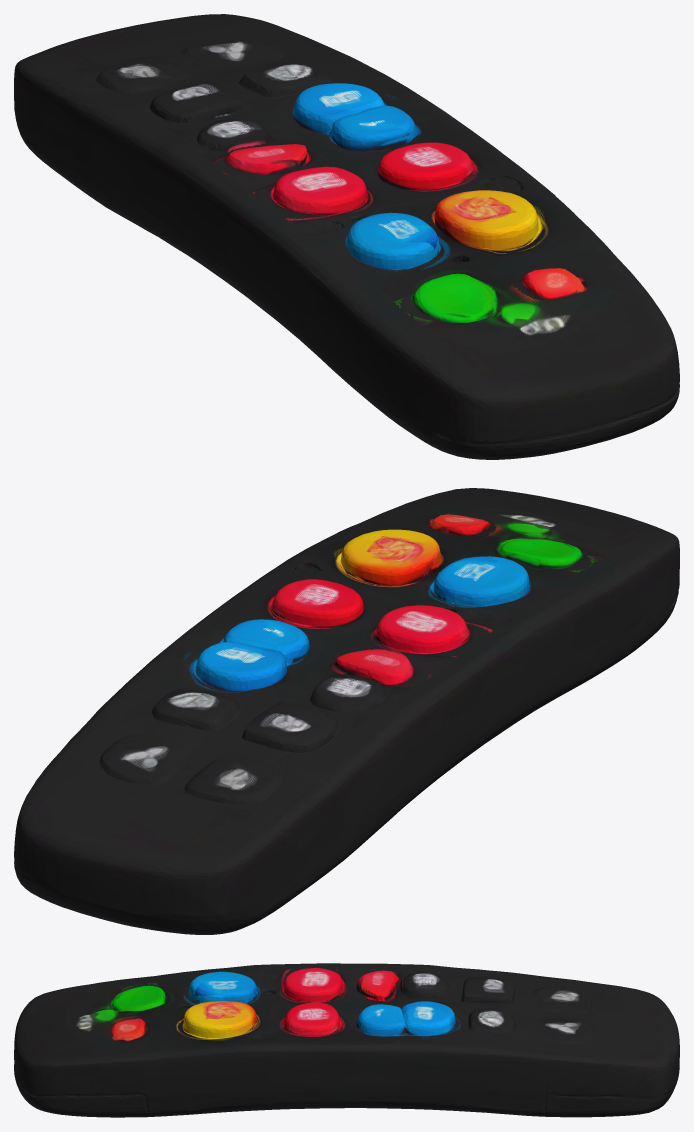
3 renders of one model, top to bottom at view 1: azimuth 30°, elevation 25°; view 2: azimuth 150°, elevation 25°; view 3: azimuth 270°, elevation 25°, orthographic. The views are drawn at different scales.
Visible parts, largest first — view 1: remote_control.obj; view 2: remote_control.obj; view 3: remote_control.obj.
Boxes of the visible parts, bbox=[...] form: remote_control.obj: bbox=[14, 14, 679, 459]; remote_control.obj: bbox=[14, 488, 679, 934]; remote_control.obj: bbox=[14, 963, 679, 1117].
Bounding box in the file's own units: 0.0561 × 0.0266 × 0.18.
1 material, 1 textured.
